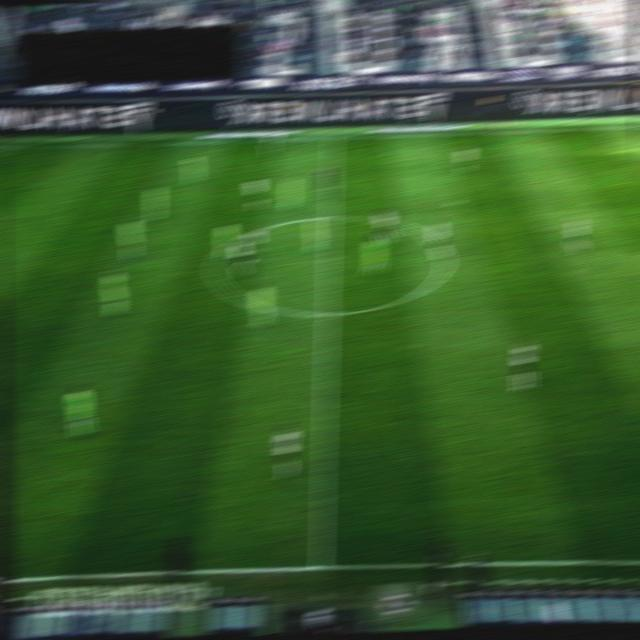halfcircle_bottom: (318, 307, 337, 318)
halfcircle_top: (322, 211, 341, 221)
midline_bottom_intersection: (310, 559, 330, 574)
midline_top_intersection: (323, 132, 341, 142)
